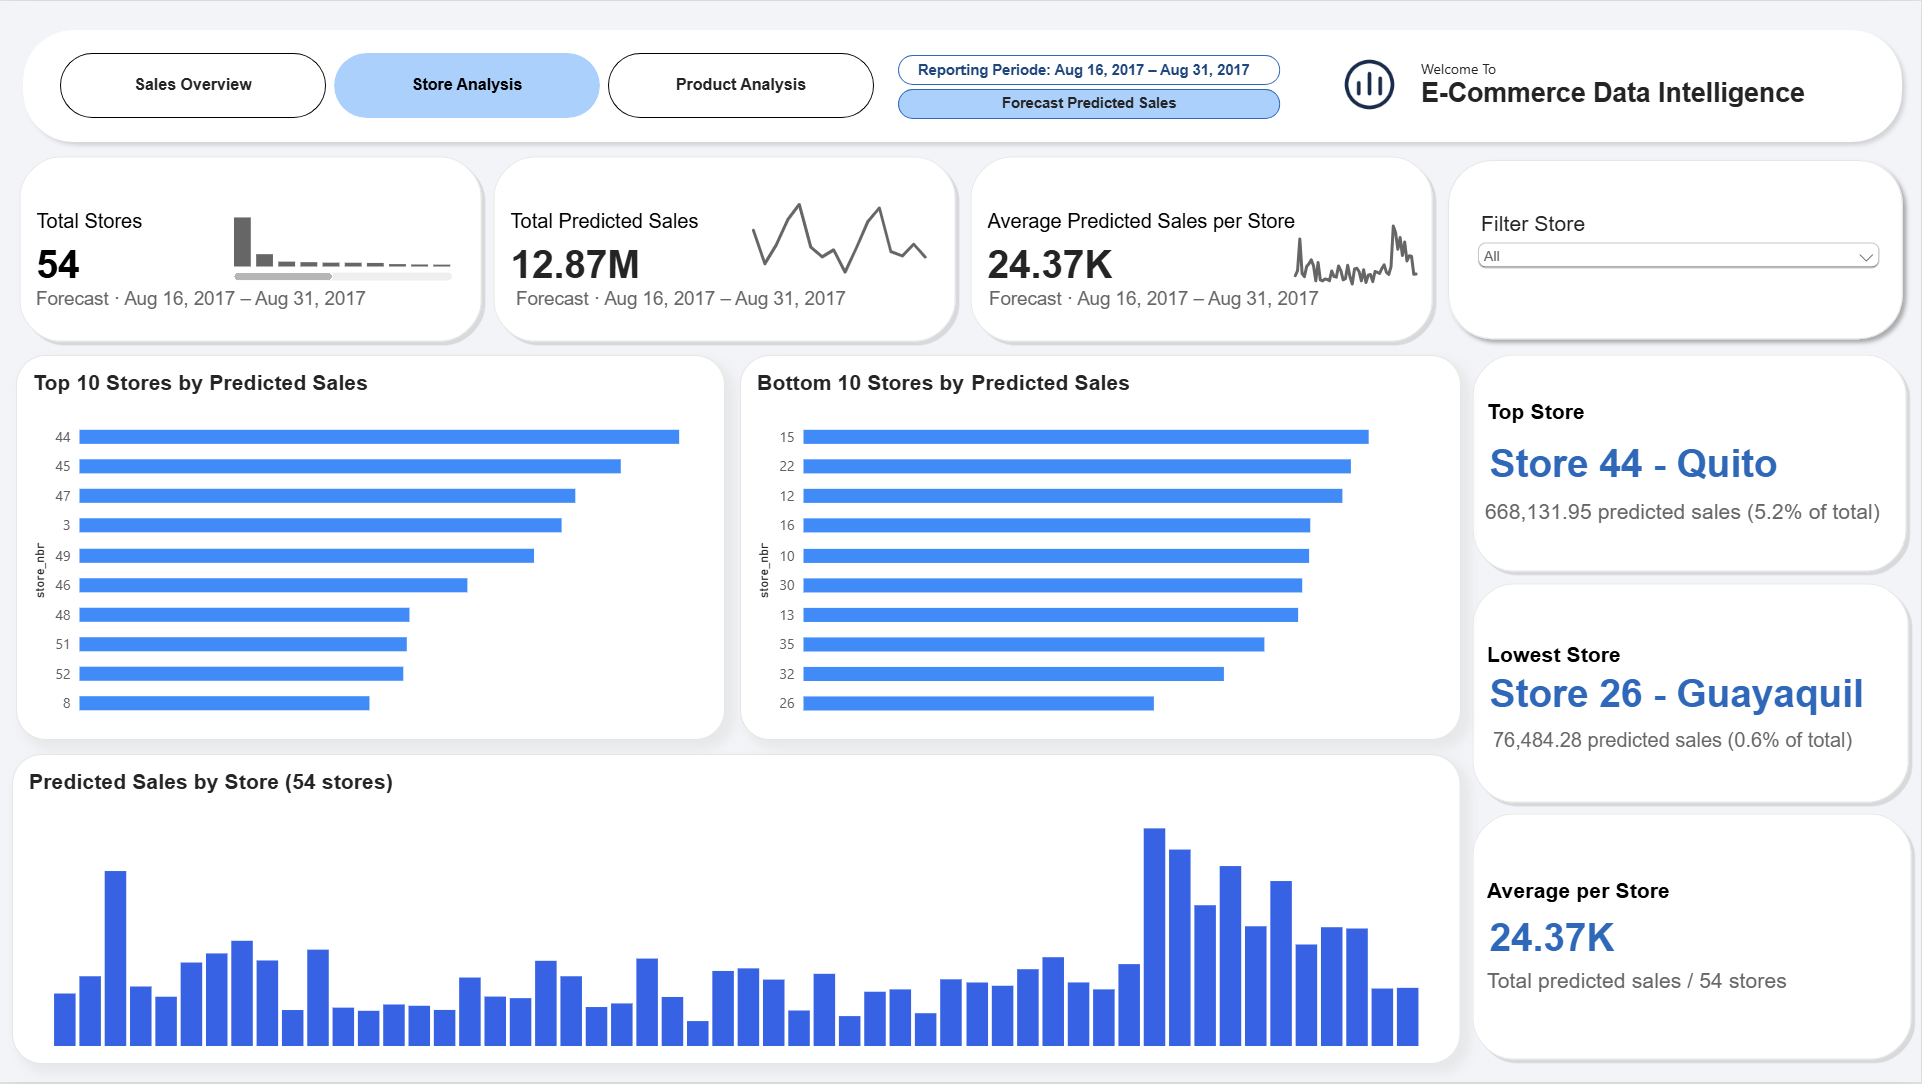

Layout of this report page (visuals, bound fields, positions):
{"tool":"powerbi","page":{"name":"Store Analysis","canvas":[1920,1080],"ordinal":1},"visuals":[{"type":"shape","box":[14,20,1896,130],"z":0},{"type":"pageNavigator","box":[60,52.2,815.6,65.6],"z":1000},{"type":"textbox","box":[1420,58.3,403.3,53.3],"z":2000},{"type":"image","box":[1326.7,56.7,85,55],"z":3000},{"type":"cardVisual","fields":{"Data":["Sum(public mart_daily_sales.total_predicted_sales)1"]},"box":[488.8,150,473.3,196.7],"z":4000},{"type":"cardVisual","fields":{"Data":["Sum(public mart_sales_by_store.avg_predicted_sales)"]},"box":[963.8,150,473.3,196.7],"z":5000},{"type":"cardVisual","fields":{"Data":["Count(public mart_sales_by_store.store_nbr)"]},"box":[14,150,473.3,196.7],"z":6000},{"type":"clusteredBarChart","title":"Top 10 Stores by Predicted Sales","fields":{"Category":["public mart_sales_by_store.store_nbr"],"Y":["Sum(public mart_sales_by_store.total_predicted_sales)"]},"box":[16.2,353.8,708.8,383.8],"z":7000},{"type":"columnChart","title":"Predicted Sales by Store (54 stores)","fields":{"Category":["public mart_sales_by_store.store_nbr"],"Y":["Sum(public mart_sales_by_store.total_predicted_sales)"]},"box":[12.5,752.5,1447.5,310],"z":8000},{"type":"cardVisual","fields":{"Data":["public mart_daily_sales.Top Store"]},"box":[1465,347.5,445,227.5],"z":9000},{"type":"cardVisual","fields":{"Data":["public mart_daily_sales.Bottom Store"]},"box":[1465,575,447.5,230],"z":10000},{"type":"cardVisual","fields":{"Data":["Sum(public mart_sales_by_store.avg_predicted_sales)"]},"box":[1465,805,450,257.5],"z":11000},{"type":"textbox","box":[1485,875,204.4,50],"z":12000},{"type":"textbox","box":[1485,640,233.3,50],"z":13000},{"type":"cardVisual","fields":{"Data":["public mart_daily_sales.Bottom Store Description"]},"box":[1475,703.3,441.7,68.3],"z":14000},{"type":"textbox","box":[1485,398.3,136.7,63.3],"z":15000},{"type":"cardVisual","fields":{"Data":["public mart_daily_sales.Top Store Description"]},"box":[1468.3,461.7,451.7,96.7],"z":16000},{"type":"cardVisual","fields":{"Data":["public mart_daily_sales.KPI Subtitle"]},"box":[500,263.8,416,66],"z":17000},{"type":"cardVisual","fields":{"Data":["public mart_daily_sales.KPI Subtitle"]},"box":[972,264,416,66],"z":18000},{"type":"cardVisual","fields":{"Data":["public mart_daily_sales.KPI Subtitle"]},"box":[19,264.6,416,66],"z":19000},{"type":"lineChart","fields":{"Category":["public mart_daily_sales.date.Variation.Date Hierarchy.Day"],"Y":["Sum(public mart_daily_sales.total_predicted_sales)"]},"box":[715,180,281,118],"z":20000},{"type":"lineChart","fields":{"Category":["public mart_sales_by_store.store_nbr"],"Y":["Sum(public mart_sales_by_store.avg_predicted_sales)"]},"box":[1265,190,188.8,117.5],"z":21000},{"type":"clusteredColumnChart","fields":{"Category":["public mart_sales_by_store.city"],"Y":["Sum(public mart_sales_by_store.total_predicted_sales)"]},"box":[217.5,178.8,250,117.5],"z":22000},{"type":"shape","box":[897.5,88.8,381.2,30],"z":23000},{"type":"textbox","box":[996.7,92.2,184.4,21.1],"z":24000},{"type":"shape","box":[897.8,54.4,381.2,30],"z":25000},{"type":"cardVisual","fields":{"Data":["public mart_daily_sales.REPORTING"]},"box":[902.1,52.9,371.1,33.3],"z":26000},{"type":"clusteredBarChart","title":"Bottom 10 Stores by Predicted Sales","fields":{"Category":["public mart_sales_by_store.store_nbr"],"Y":["Sum(public mart_sales_by_store.total_predicted_sales)"]},"box":[740,354,720,384],"z":27000},{"type":"shape","box":[1437.1,150,472.9,197.1],"z":28000},{"type":"slicer","fields":{"Values":["public mart_sales_by_store.store_nbr"]},"box":[1472.5,210,411.2,77.5],"z":29000},{"type":"textbox","box":[1485,966.7,300,41.7],"z":30000}]}

Visuals, with their boxes in screenshot pixels (x1, y1, x2, y2), scaled from the page's 1920x1080 canvas onto the 1922x1084 screenshot:
shape: bbox(14, 20, 1912, 151)
pageNavigator: bbox(60, 52, 877, 118)
textbox: bbox(1421, 59, 1825, 112)
image: bbox(1328, 57, 1413, 112)
cardVisual - Sum(public mart_daily_sales.total_predicted_sales)1: bbox(489, 151, 963, 348)
cardVisual - Sum(public mart_sales_by_store.avg_predicted_sales): bbox(965, 151, 1439, 348)
cardVisual - Count(public mart_sales_by_store.store_nbr): bbox(14, 151, 488, 348)
"Top 10 Stores by Predicted Sales" clusteredBarChart: bbox(16, 355, 726, 740)
"Predicted Sales by Store (54 stores)" columnChart: bbox(13, 755, 1462, 1066)
cardVisual - public mart_daily_sales.Top Store: bbox(1467, 349, 1912, 577)
cardVisual - public mart_daily_sales.Bottom Store: bbox(1467, 577, 1914, 808)
cardVisual - Sum(public mart_sales_by_store.avg_predicted_sales): bbox(1467, 808, 1917, 1066)
textbox: bbox(1487, 878, 1691, 928)
textbox: bbox(1487, 642, 1720, 693)
cardVisual - public mart_daily_sales.Bottom Store Description: bbox(1477, 706, 1919, 774)
textbox: bbox(1487, 400, 1623, 463)
cardVisual - public mart_daily_sales.Top Store Description: bbox(1470, 463, 1921, 560)
cardVisual - public mart_daily_sales.KPI Subtitle: bbox(501, 265, 917, 331)
cardVisual - public mart_daily_sales.KPI Subtitle: bbox(973, 265, 1389, 331)
cardVisual - public mart_daily_sales.KPI Subtitle: bbox(19, 266, 435, 332)
lineChart - public mart_daily_sales.date.Variation.Date Hierarchy.Day x Sum(public mart_daily_sales.total_predicted_sales): bbox(716, 181, 997, 299)
lineChart - public mart_sales_by_store.store_nbr x Sum(public mart_sales_by_store.avg_predicted_sales): bbox(1266, 191, 1455, 309)
clusteredColumnChart - public mart_sales_by_store.city x Sum(public mart_sales_by_store.total_predicted_sales): bbox(218, 179, 468, 297)
shape: bbox(898, 89, 1280, 119)
textbox: bbox(998, 93, 1182, 114)
shape: bbox(899, 55, 1280, 85)
cardVisual - public mart_daily_sales.REPORTING: bbox(903, 53, 1275, 87)
"Bottom 10 Stores by Predicted Sales" clusteredBarChart: bbox(741, 355, 1462, 741)
shape: bbox(1439, 151, 1912, 348)
slicer - public mart_sales_by_store.store_nbr: bbox(1474, 211, 1886, 289)
textbox: bbox(1487, 970, 1787, 1012)
